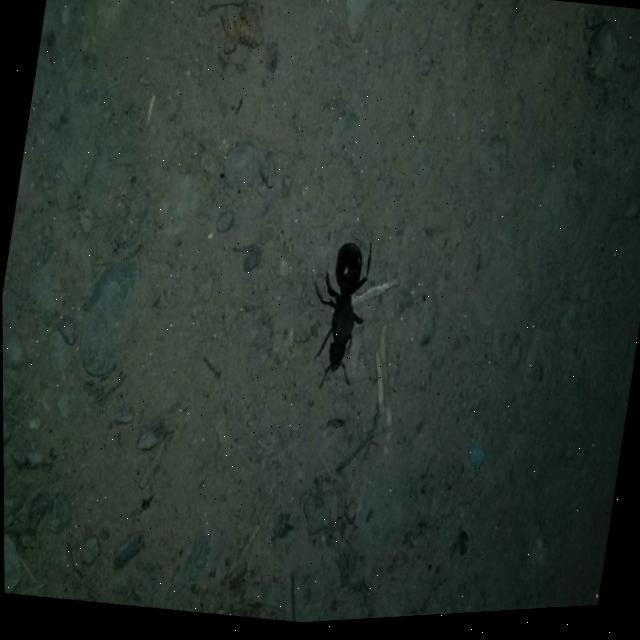Alive-Female-Dealate: (297, 240, 376, 400)
